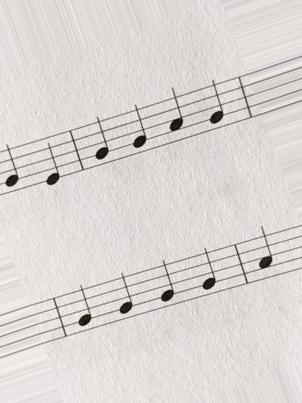note: (162, 83, 189, 149), (252, 224, 275, 285), (199, 239, 220, 305), (128, 97, 151, 157), (113, 267, 138, 322), (42, 126, 64, 187), (73, 278, 96, 334), (1, 140, 23, 196), (92, 113, 113, 170), (207, 77, 228, 134), (157, 257, 178, 312)
